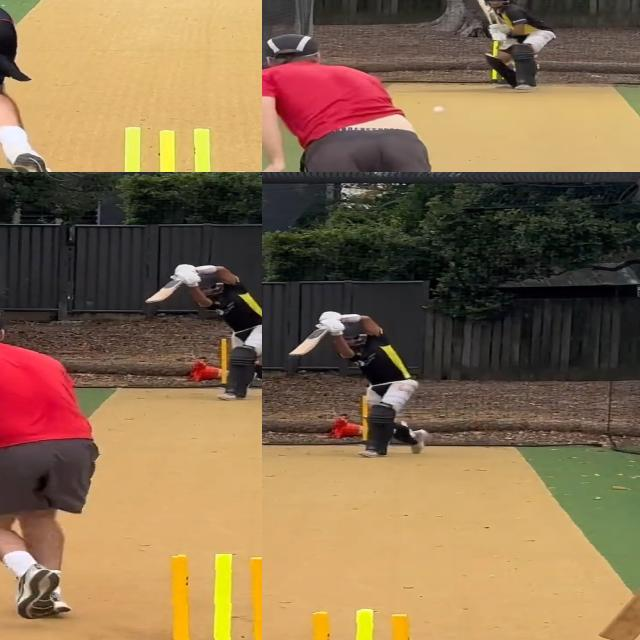Cricket ball: (432, 106, 445, 114)
Stumps: (155, 554, 262, 640)
